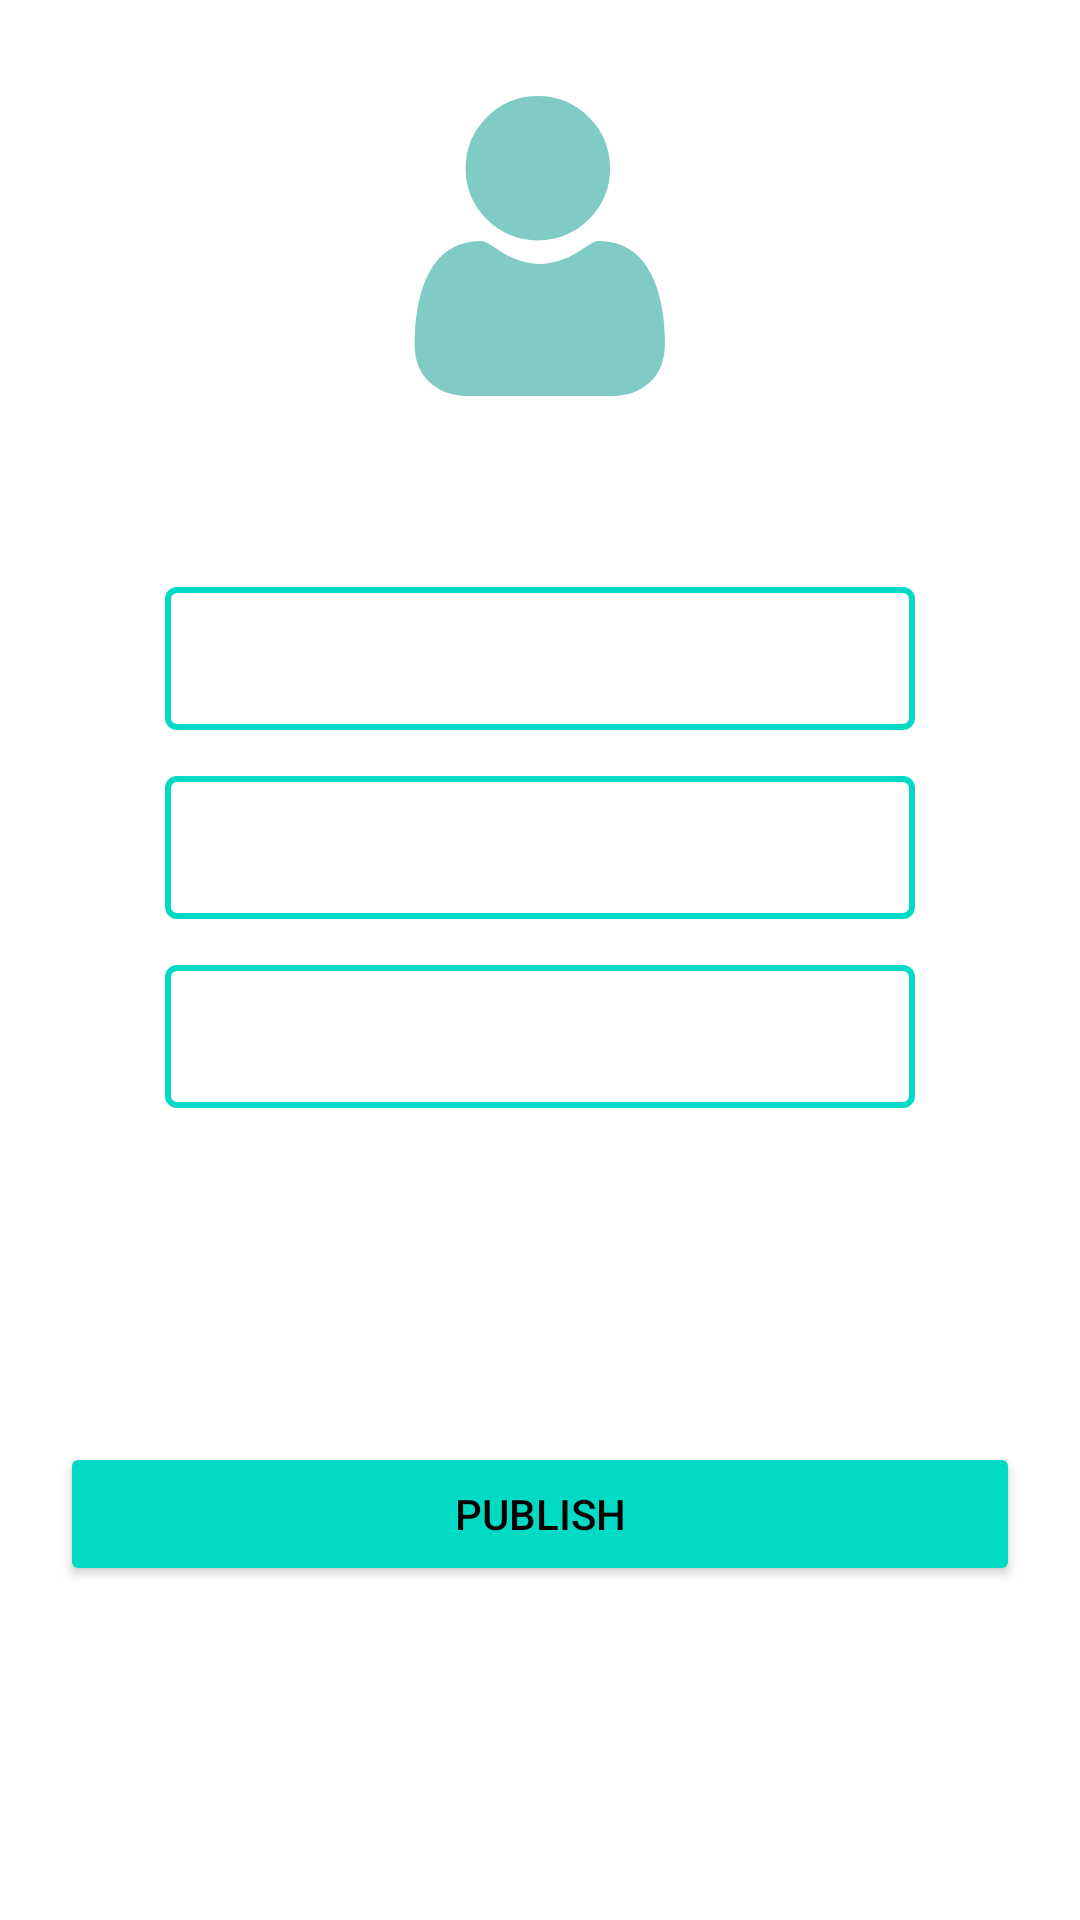

Where icons sit on this 1080 x 1920 app screen, as (x1, y1, x2, y2):
user: (414, 96, 665, 396)
